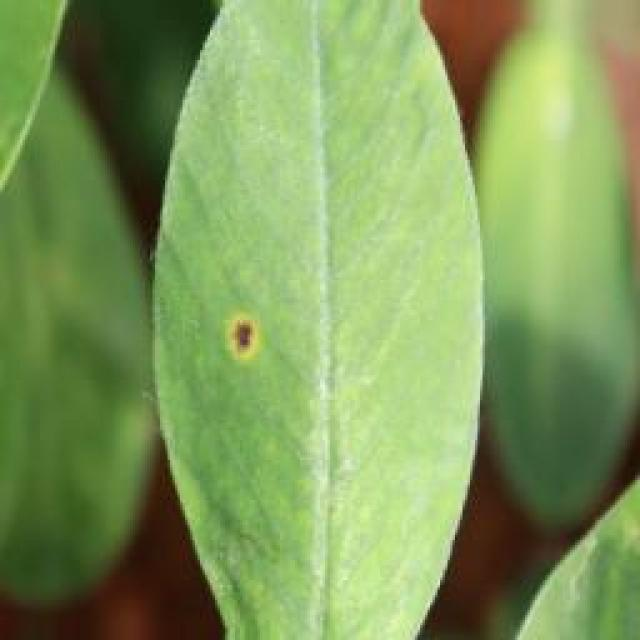Sigatoka: (202, 306, 274, 367)
